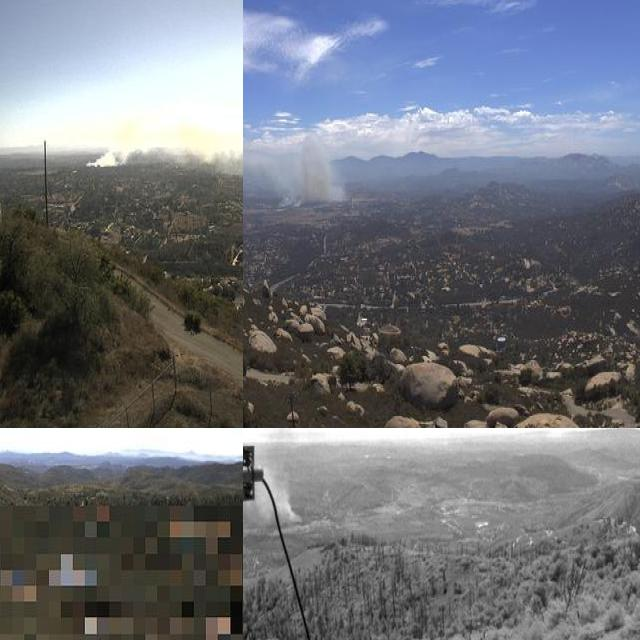smoke: (243, 108, 348, 218), (89, 120, 243, 176), (254, 428, 309, 528)
